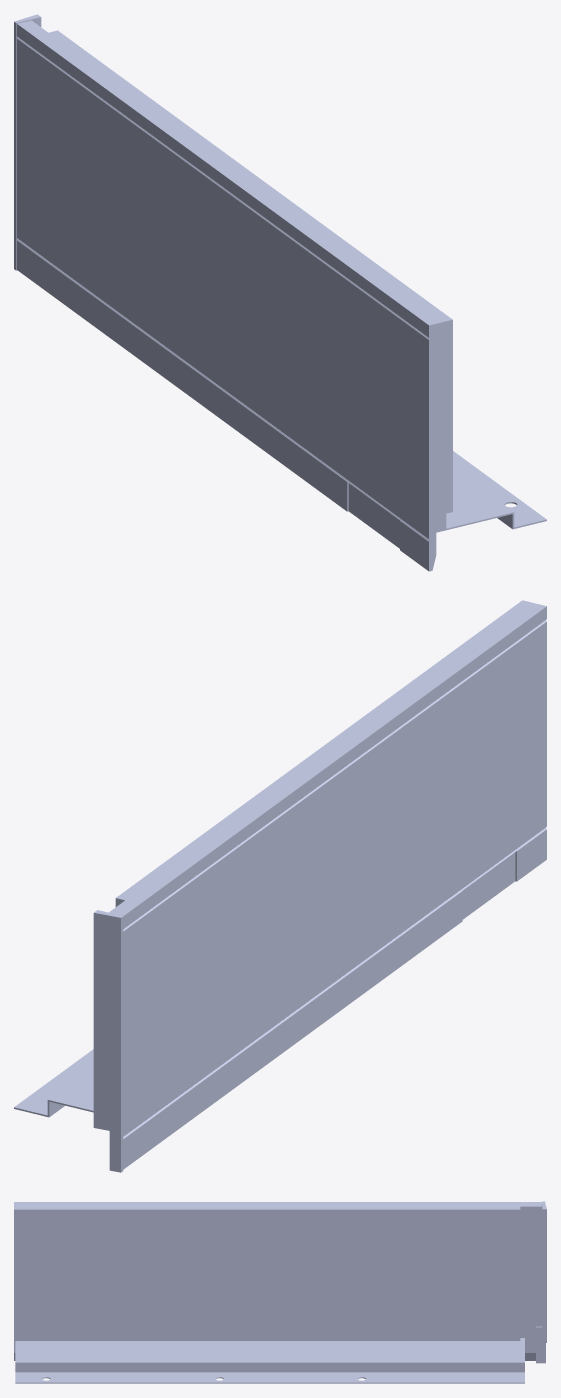
The model's file is lg-kava-K400-p.glb.
The picture shows the model from 3 angles, top to bottom: view 1: azimuth 30°, elevation 25°; view 2: azimuth 150°, elevation 25°; view 3: azimuth 270°, elevation 25°; orthographic projection. The views are drawn at different scales.
Parts seen in each view (by area): view 1: 43808039; view 2: 43808039; view 3: 43808039.
Boxes of the visible parts, <box> form: 43808039: <box>14,14,546,571</box>; 43808039: <box>14,600,546,1172</box>; 43808039: <box>14,1201,546,1383</box>.
Size of the model in its own units: 0.0653 by 0.1292 by 0.3935.
